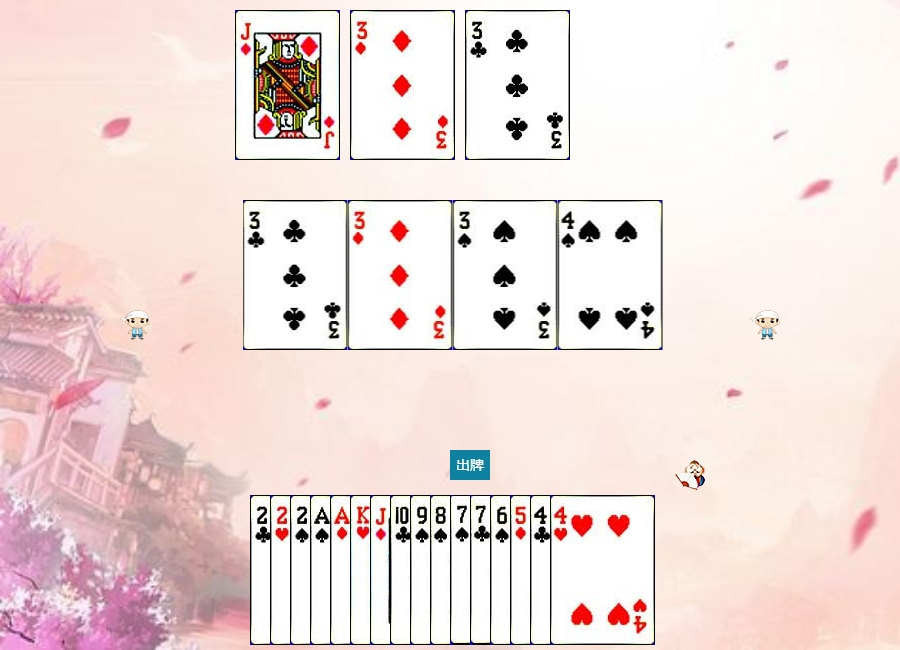10~2: (390, 495, 495, 645)
11~1: (235, 10, 340, 160), (370, 495, 475, 645)
13~3: (350, 495, 455, 645)
14~1: (330, 495, 435, 645)
14~4: (310, 495, 415, 645)
15~2: (250, 495, 355, 645)
15~3: (270, 495, 375, 645)
15~4: (290, 495, 395, 645)
3~1: (350, 10, 455, 160), (348, 200, 453, 350)
3~2: (465, 10, 570, 160), (243, 200, 348, 350)
3~4: (453, 200, 558, 350)
4~2: (530, 495, 635, 645)
4~3: (550, 495, 655, 645)
4~4: (558, 200, 663, 350)
5~1: (510, 495, 615, 645)
6~4: (490, 495, 595, 645)
7~2: (470, 495, 575, 645)
7~4: (450, 495, 555, 645)
8~4: (430, 495, 535, 645)
9~4: (410, 495, 515, 645)
